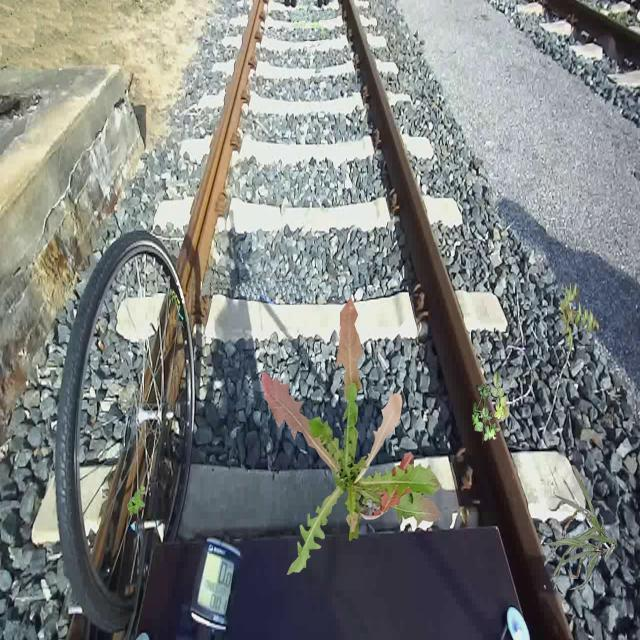Plant: (262, 297, 442, 575), (544, 465, 617, 590), (559, 282, 600, 354), (472, 371, 510, 444), (127, 485, 146, 518)
